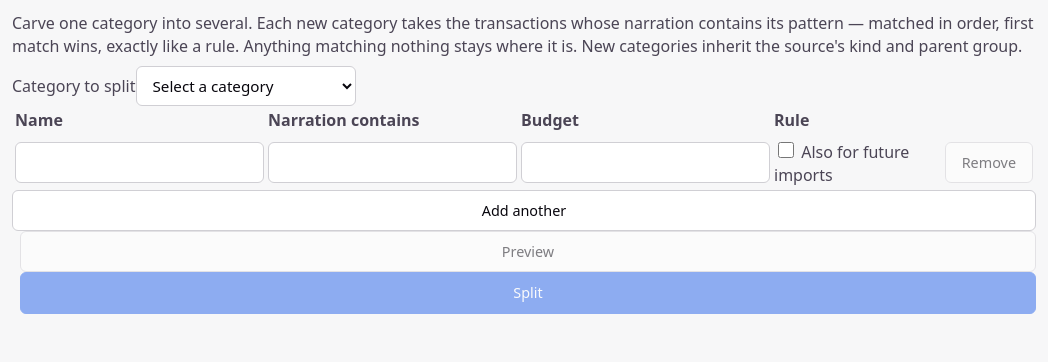
CategorySplitter › splits, reports what moved and refreshes the page
Select "Groceries" in the dropdown labelled "Category to split" at (246, 86), box [136,66,356,106]
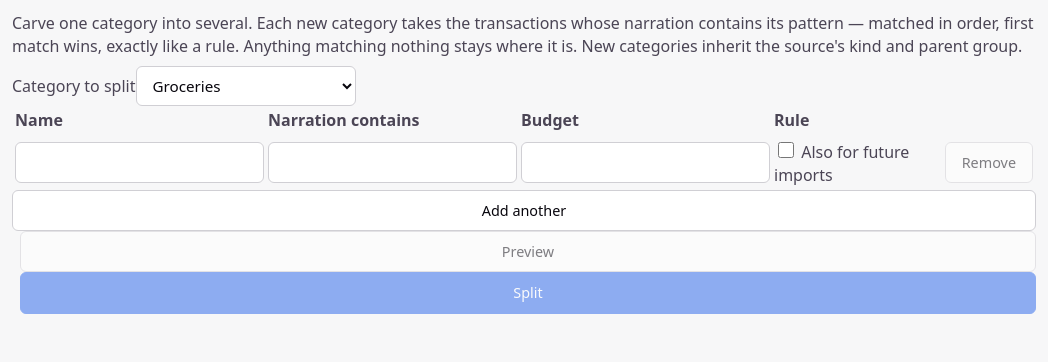
Type "Alcohol" into the field named "Name for new category 1" at (140, 163), box [15,142,264,183]
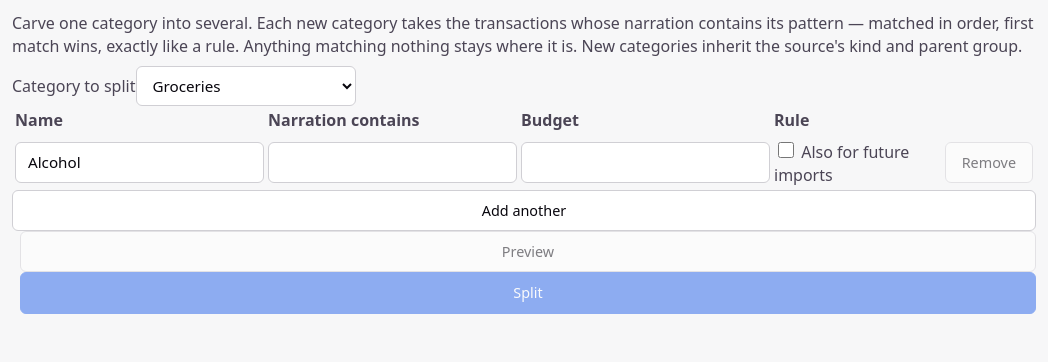
Type "bws" into the field named "Narration pattern for new category 1" at (392, 163), box [268,142,517,183]
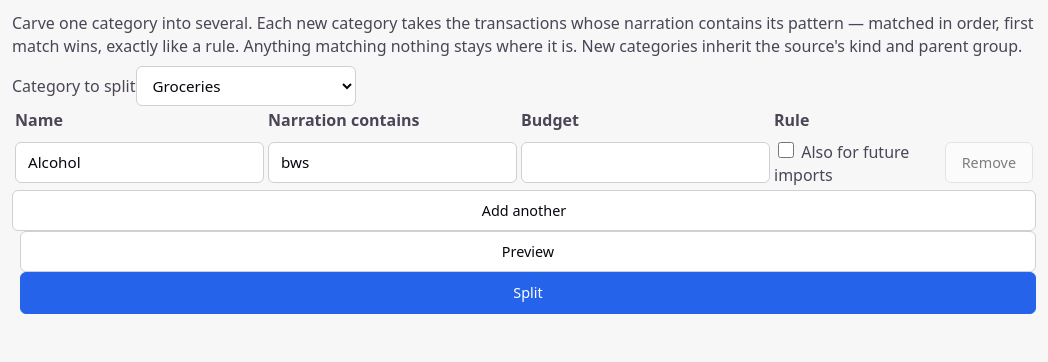
Click the button "Split" at (528, 293), box [20,272,1036,314]
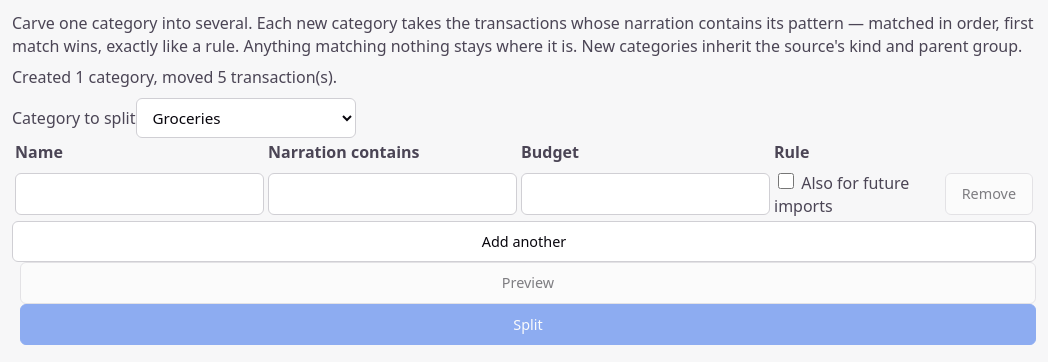
Result: the text "Created 1 category, moved 5 transaction(s)." is shown at [12,66,337,88]
